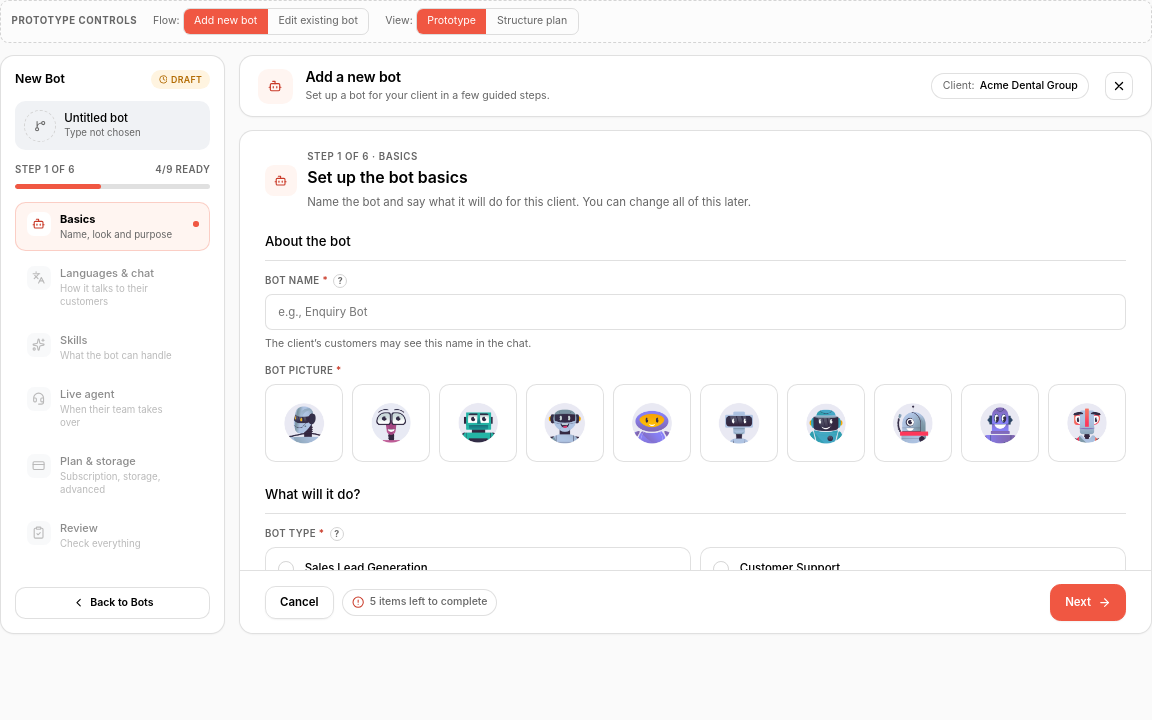
Scenario: bot setup wizard › summarises what changed on the Review step when editing
The width and height of the screenshot is (1152, 720).
Step 1. Click the button "Edit existing bot" → (318, 21), box 268,9 -> 368,34
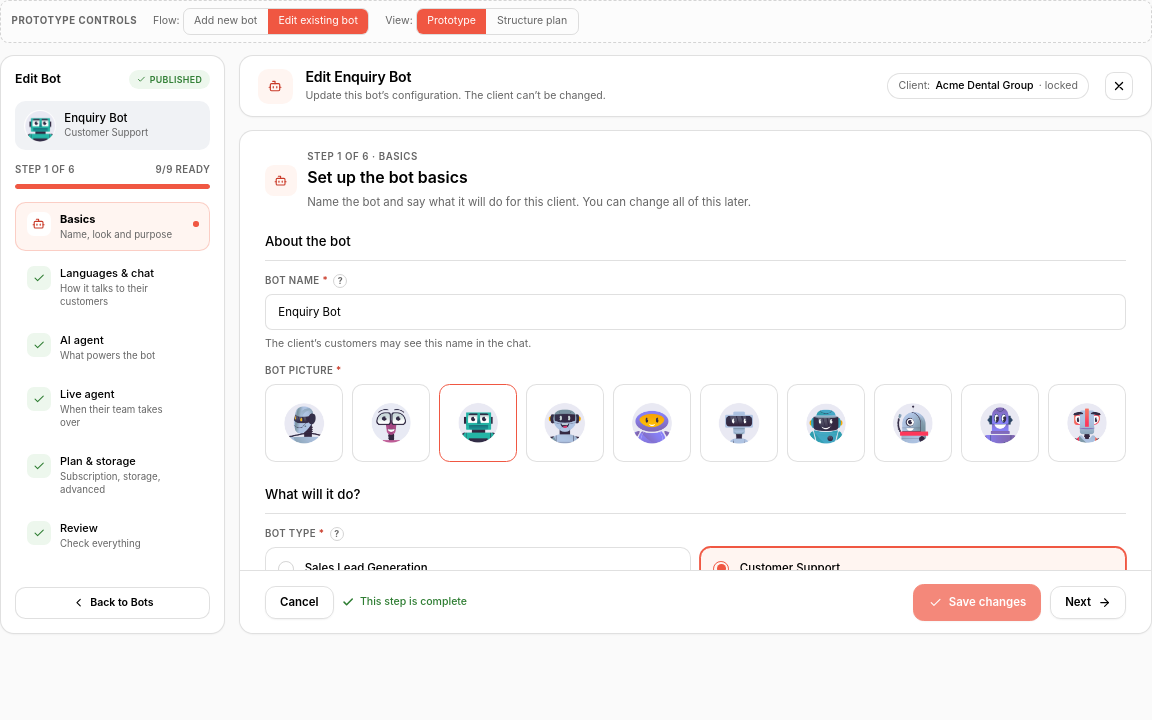
Step 2. Click the button with class "rstep" showing "Review Check everything" → (113, 535), box 15,511 -> 210,560
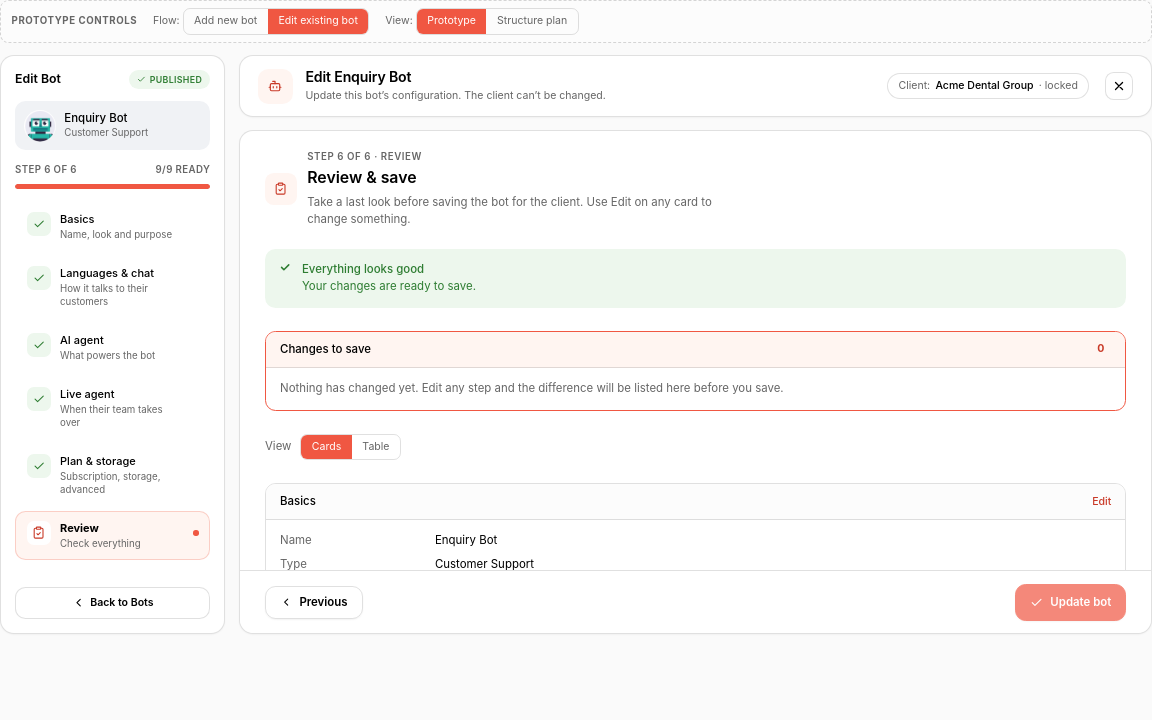
expect the text with class "chg-empty" is shown: met, box 280,381 -> 784,395
expect the button "Update bot" is disabled: met, box 1015,584 -> 1126,621
Step 3. Click the button with class "rstep" that starts with "Plan & storage" → (113, 475), box 15,444 -> 210,506
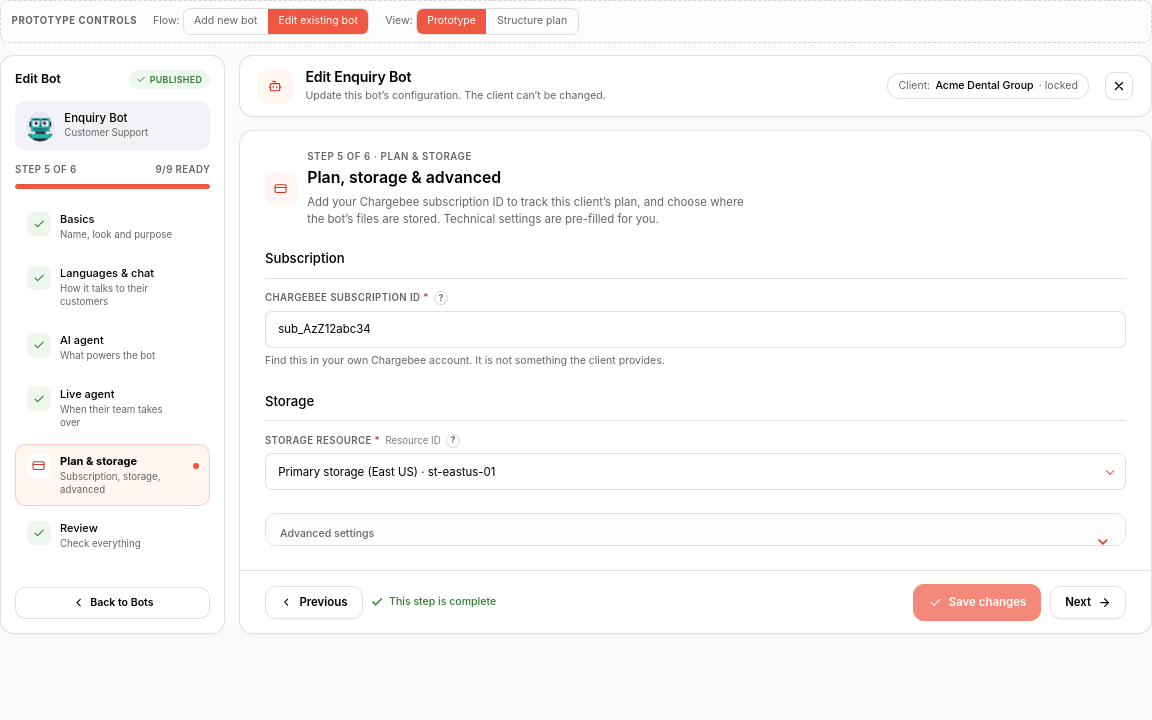
Step 4. Replace the text in the field with id "f-chargebeeId" with "sub_changed" → (696, 329), box 265,311 -> 1126,348
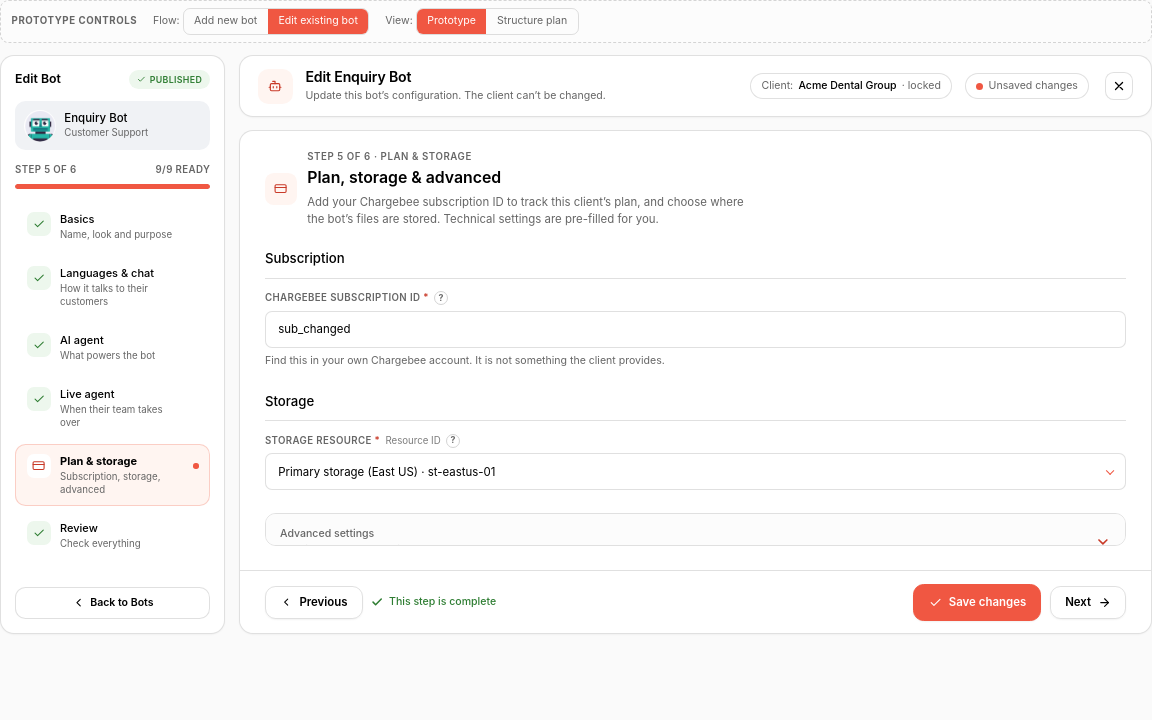
Step 5. Click the button with class "rstep" showing "Review Check everything" → (113, 535), box 15,511 -> 210,560
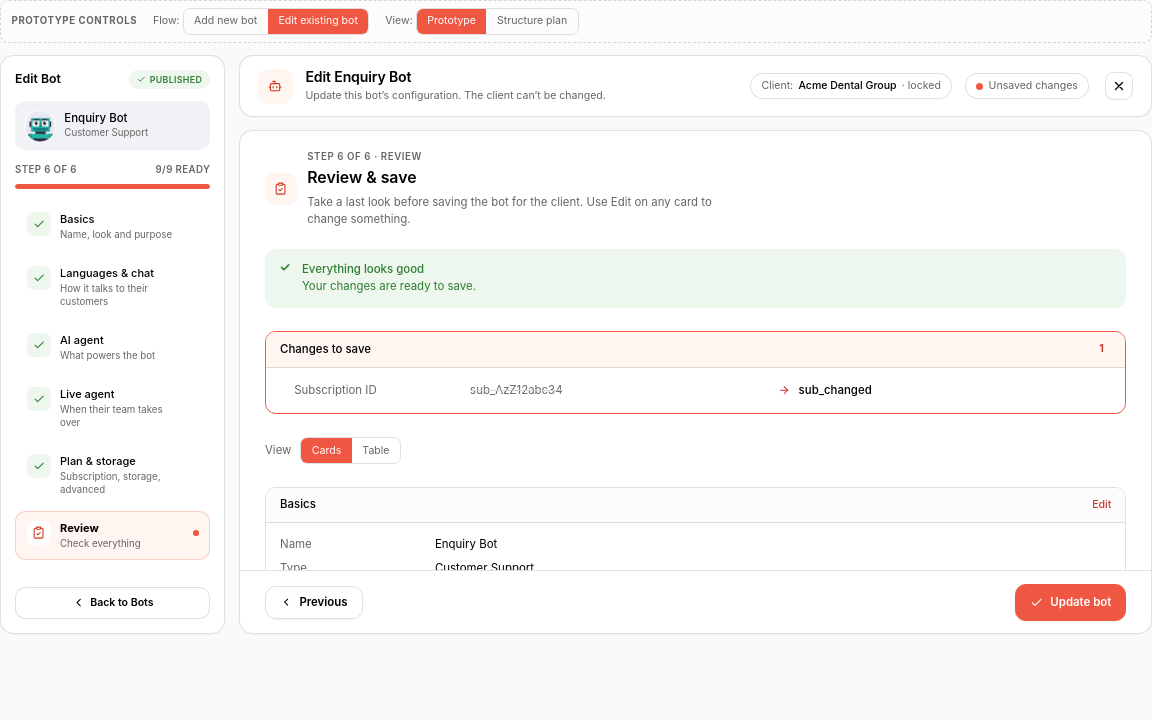
expect the button "Update bot" is enabled: met, box 1015,584 -> 1126,621
